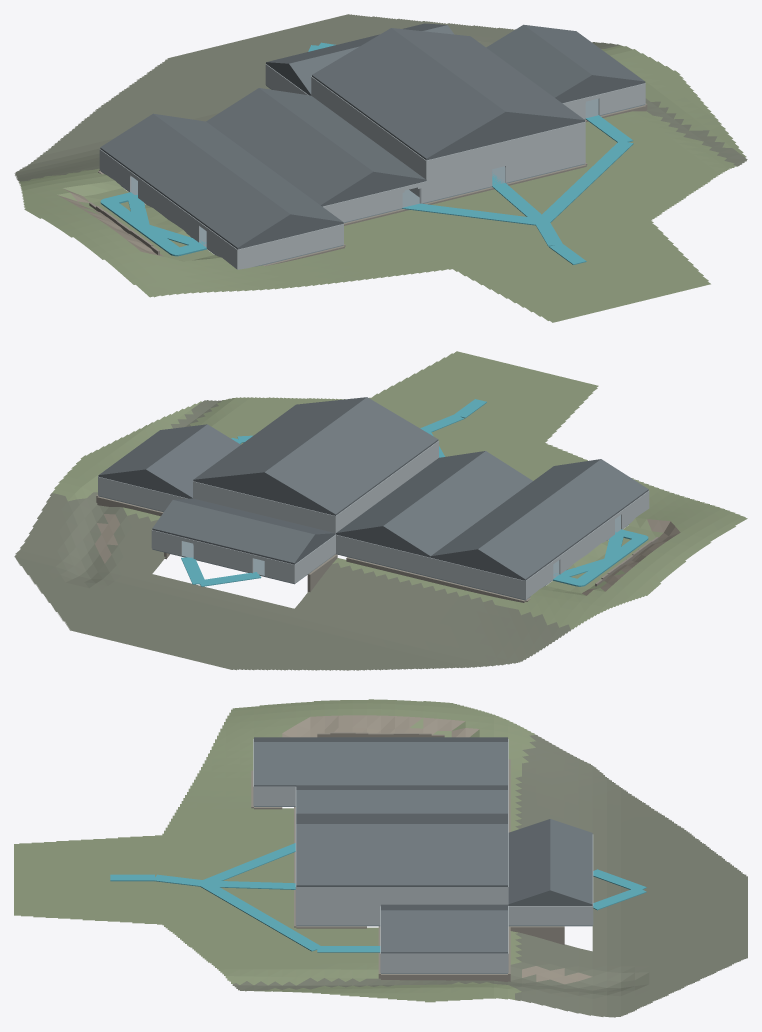
Rendered from enclosed-roofs.glb.
3 renders of one model, top to bottom at view 1: azimuth 30°, elevation 25°; view 2: azimuth 150°, elevation 25°; view 3: azimuth 270°, elevation 25°, orthographic. The views are drawn at different scales.
Visible parts, largest first — view 1: Saved editor circulation terrain WLD-13, processing-hall roof west, crew-mess-and-bunks roof west, boiler-and-wash roof west, processing-hall roof east, crew-mess-and-bunks roof east, boiler-and-wash roof east, cold-store roof west, Flat route shell Wall processing S.001, Flat route shell Wall processing S, cold-store roof east, processing-hall gable south (+20 smaller); view 2: Saved editor circulation terrain WLD-13, processing-hall roof west, crew-mess-and-bunks roof west, boiler-and-wash roof west, office-and-stores roof north, processing-hall roof east, crew-mess-and-bunks roof east, cold-store roof west, boiler-and-wash roof east, cold-store roof east, processing-hall gable north, Wall mess N (+20 smaller); view 3: Saved editor circulation terrain WLD-13, processing-hall roof east, crew-mess-and-bunks roof east, cold-store roof east, boiler-and-wash roof east, Flat route shell Wall processing E.001, office-and-stores roof south, office-and-stores roof north, Wall cold E, processing-hall roof west, Wall stores E, L08 support 0 (+8 smaller).
Part boxes in pixels (x1=…): Saved editor circulation terrain WLD-13: x1=14, y1=14, x2=747, y2=322; processing-hall roof west: x1=312, y1=28, x2=505, y2=159; crew-mess-and-bunks roof west: x1=100, y1=114, x2=290, y2=249; boiler-and-wash roof west: x1=206, y1=88, x2=373, y2=205; processing-hall roof east: x1=392, y1=28, x2=584, y2=121; crew-mess-and-bunks roof east: x1=153, y1=113, x2=343, y2=223; boiler-and-wash roof east: x1=259, y1=88, x2=425, y2=180; cold-store roof west: x1=486, y1=25, x2=592, y2=98; Flat route shell Wall processing S.001: x1=505, y1=122, x2=585, y2=182; Flat route shell Wall processing S: x1=426, y1=144, x2=492, y2=201; cold-store roof east: x1=524, y1=25, x2=645, y2=82; processing-hall gable south: x1=426, y1=113, x2=584, y2=160; Saved editor circulation terrain WLD-13: x1=14, y1=351, x2=747, y2=670; processing-hall roof west: x1=264, y1=397, x2=438, y2=515; crew-mess-and-bunks roof west: x1=478, y1=459, x2=648, y2=580; boiler-and-wash roof west: x1=383, y1=451, x2=532, y2=557; office-and-stores roof north: x1=152, y1=500, x2=314, y2=564; processing-hall roof east: x1=193, y1=397, x2=366, y2=480; crew-mess-and-bunks roof east: x1=430, y1=459, x2=600, y2=557; cold-store roof west: x1=146, y1=424, x2=240, y2=498; boiler-and-wash roof east: x1=336, y1=451, x2=484, y2=534; cold-store roof east: x1=98, y1=424, x2=206, y2=476; processing-hall gable north: x1=193, y1=473, x2=336, y2=515; Wall mess N: x1=430, y1=557, x2=525, y2=599; Saved editor circulation terrain WLD-13: x1=14, y1=699, x2=747, y2=1017; processing-hall roof east: x1=296, y1=824, x2=507, y2=886; crew-mess-and-bunks roof east: x1=254, y1=742, x2=507, y2=786; cold-store roof east: x1=381, y1=910, x2=507, y2=953; boiler-and-wash roof east: x1=296, y1=790, x2=507, y2=813; Flat route shell Wall processing E.001: x1=296, y1=887, x2=439, y2=925; office-and-stores roof south: x1=508, y1=819, x2=550, y2=905; office-and-stores roof north: x1=550, y1=819, x2=592, y2=905; Wall cold E: x1=381, y1=953, x2=507, y2=973; processing-hall roof west: x1=296, y1=813, x2=507, y2=823; Wall stores E: x1=508, y1=906, x2=592, y2=925; L08 support 0: x1=199, y1=882, x2=321, y2=951.
Bounding box in the file's own units: 97 × 15.43 × 104.
